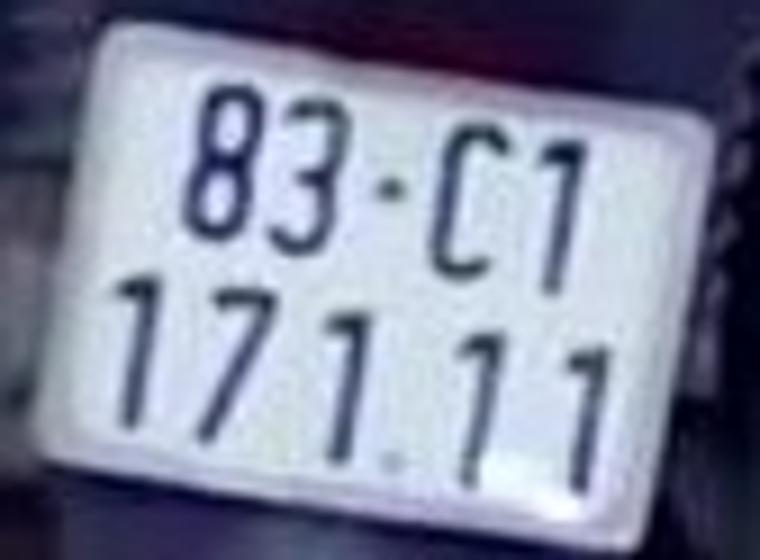-: (366, 164, 417, 214)
.: (379, 441, 411, 485)
1: (450, 321, 505, 496), (318, 296, 374, 465), (119, 266, 171, 432), (562, 339, 614, 502), (538, 127, 586, 302)
3: (276, 86, 349, 265)
7: (194, 278, 278, 456)
8: (183, 74, 255, 246)
C: (428, 110, 510, 288)
